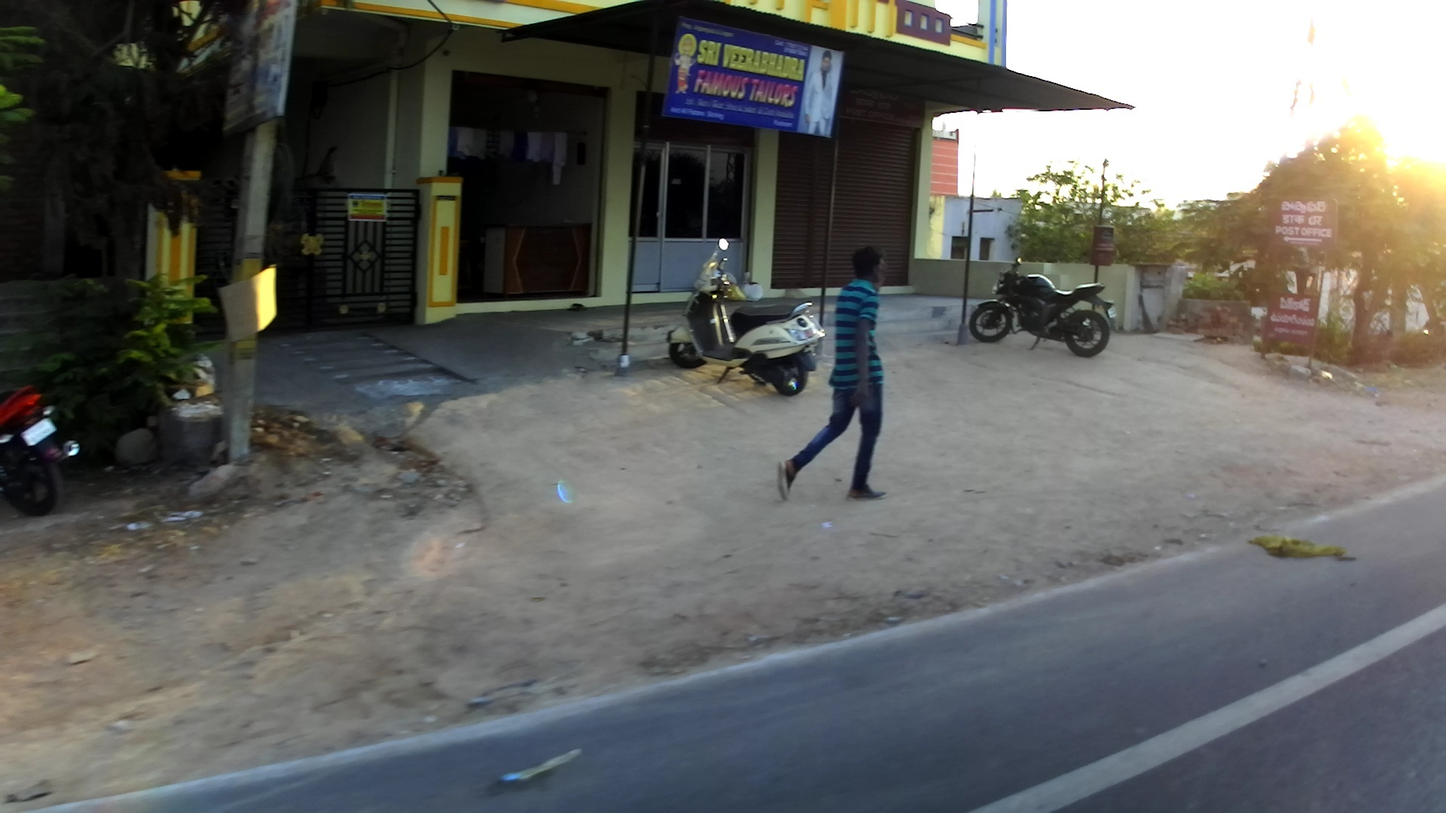person: (779, 236, 906, 517)
